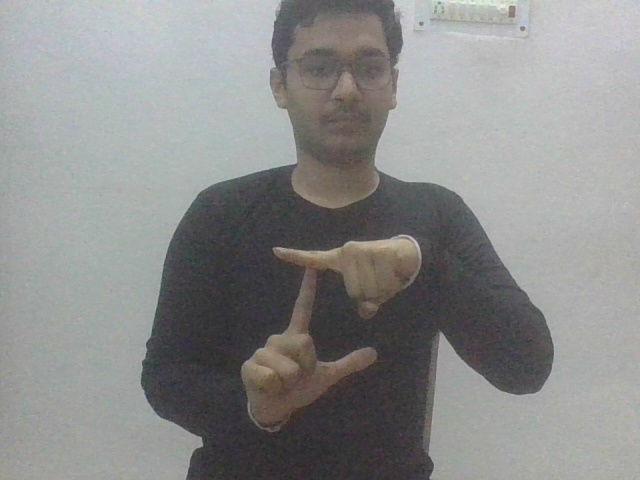J: (239, 234, 417, 433)
